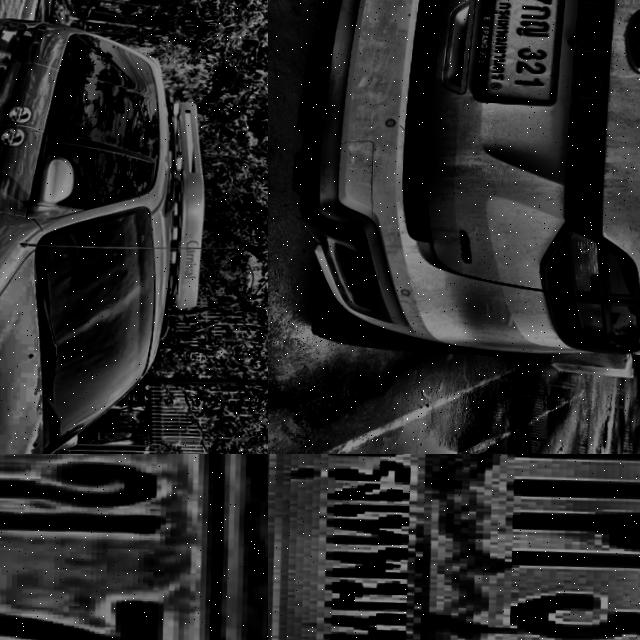license-plate: (268, 454, 640, 640), (0, 454, 268, 640), (470, 0, 571, 103)
